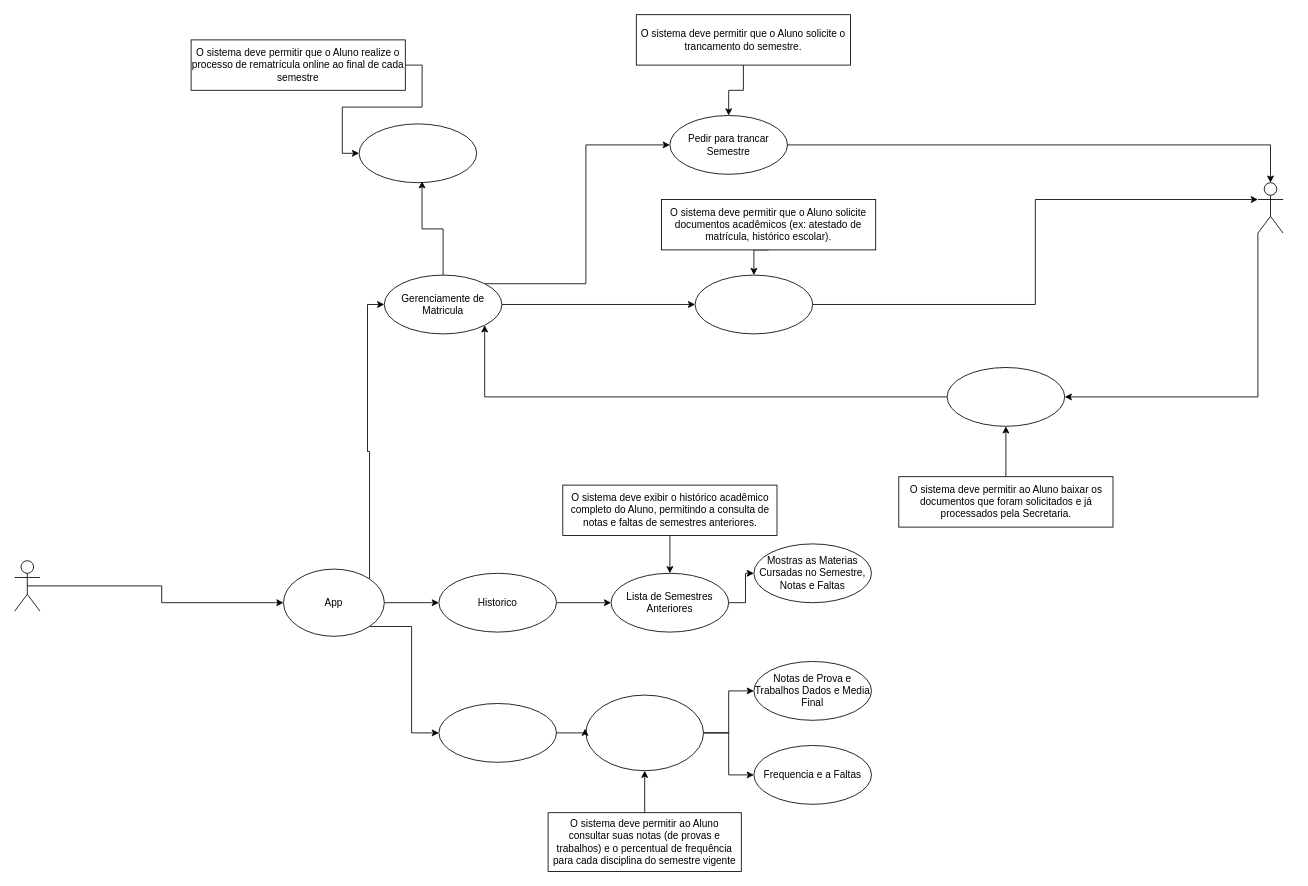
Image size: 1308x886. Some labels were removed from this diagram. The box of each missing label's shape, as (x1, y1, x2, y2) in pixels:
Aluno: (14, 560, 40, 611)
Baixar os Documentos: (946, 367, 1065, 426)
Fazer a Matricula: (358, 123, 477, 183)
Materias: (438, 703, 556, 762)
Mostra Todas as Materias Encurso: (585, 694, 704, 771)
Pedir Documento ligados a instituição: (694, 274, 813, 334)
Secretaria: (1257, 182, 1283, 233)
